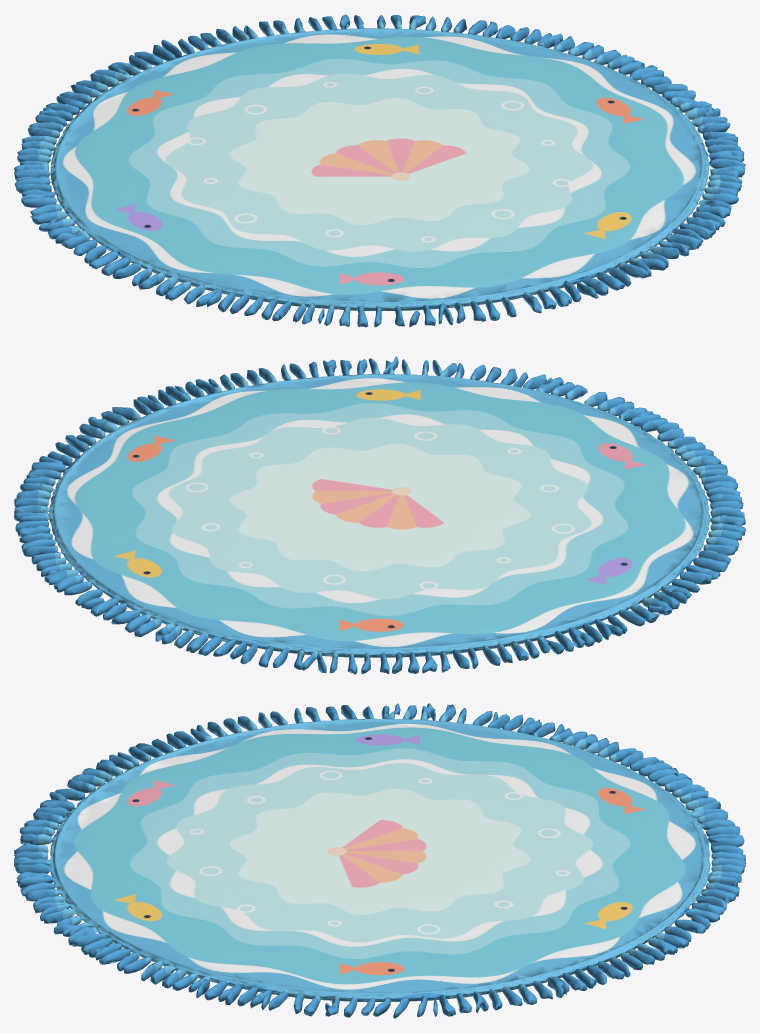
File: waveRug.glb
The picture shows the model from 3 angles, top to bottom: view 1: azimuth 30°, elevation 25°; view 2: azimuth 150°, elevation 25°; view 3: azimuth 270°, elevation 25°; orthographic projection.
Size of the model in its own units: 1 by 0.025 by 1.
1 material, 1 textured.
